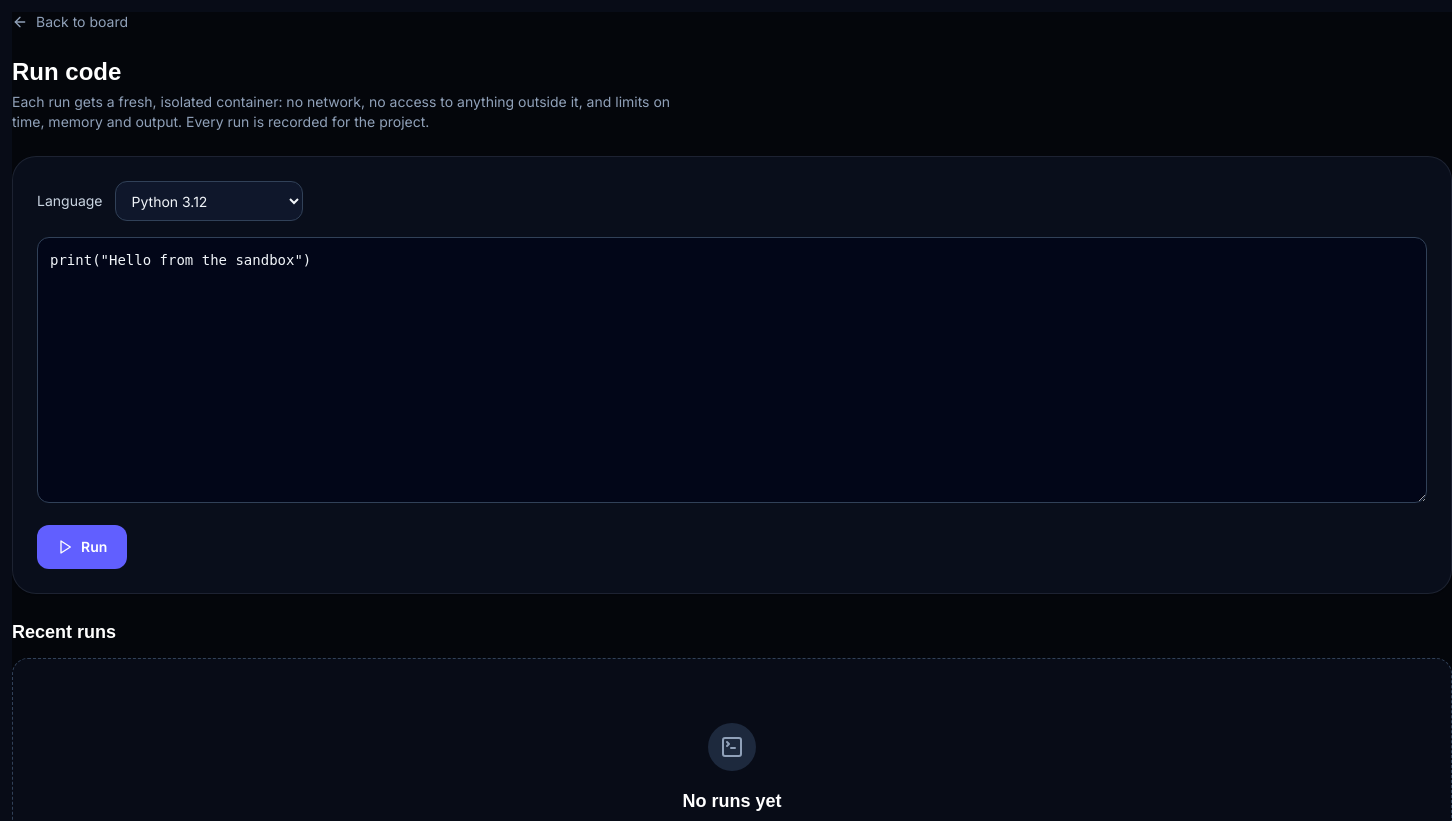
Test: RunCodePage › shows why a run was refused
Click the button "Run" at (82, 547), box [37, 525, 127, 569]
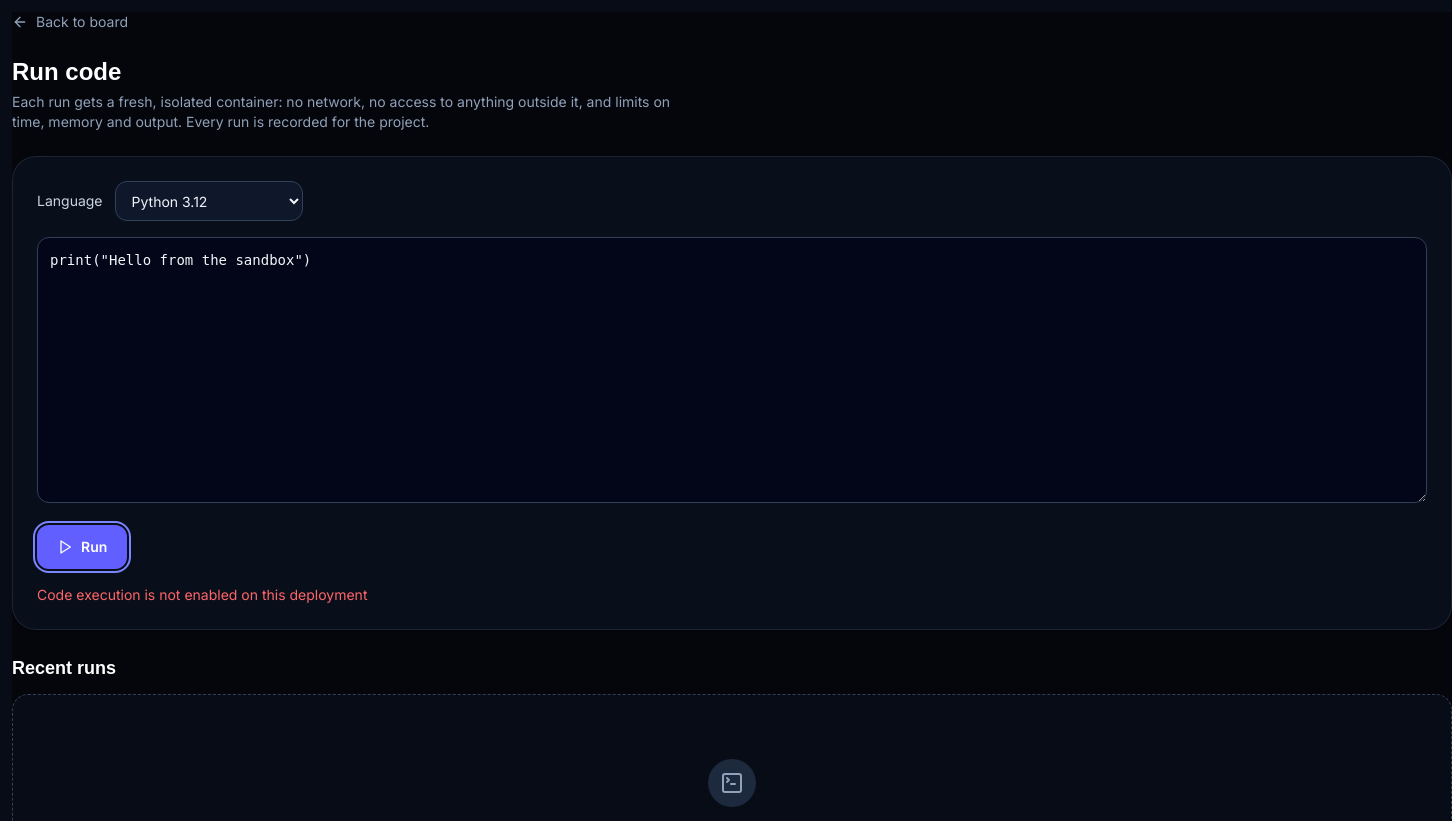
expect the message reads "Code execution is not enabled on this deployment": met, box [37, 586, 368, 603]
